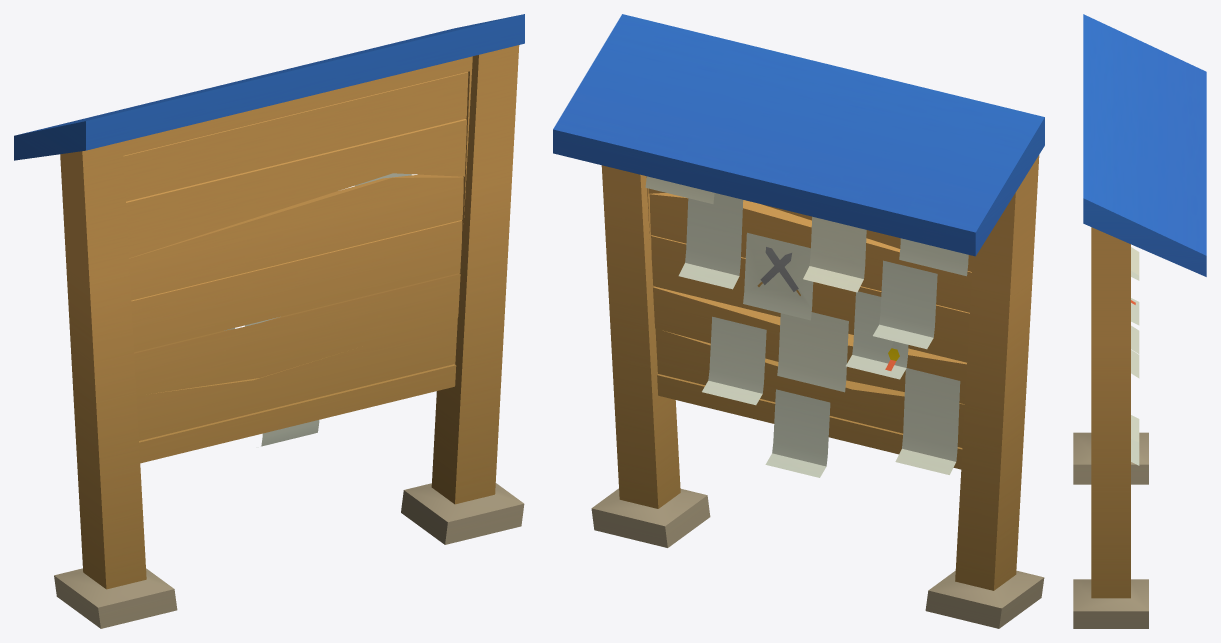
File: Quest+board.fbx
The picture shows the model from 3 angles, left to right: view 1: azimuth 30°, elevation 25°; view 2: azimuth 150°, elevation 25°; view 3: azimuth 270°, elevation 25°; orthographic projection. The views are drawn at different scales.
Parts seen in each view (by area): view 1: Quest board; view 2: Quest board; view 3: Quest board.
Part boxes in pixels (left/top/right/bottom): Quest board: left=14, top=14, right=524, bottom=628; Quest board: left=553, top=14, right=1044, bottom=628; Quest board: left=1073, top=14, right=1206, bottom=628.
Bounding box in the file's own units: 91.06 × 100 × 27.91.
